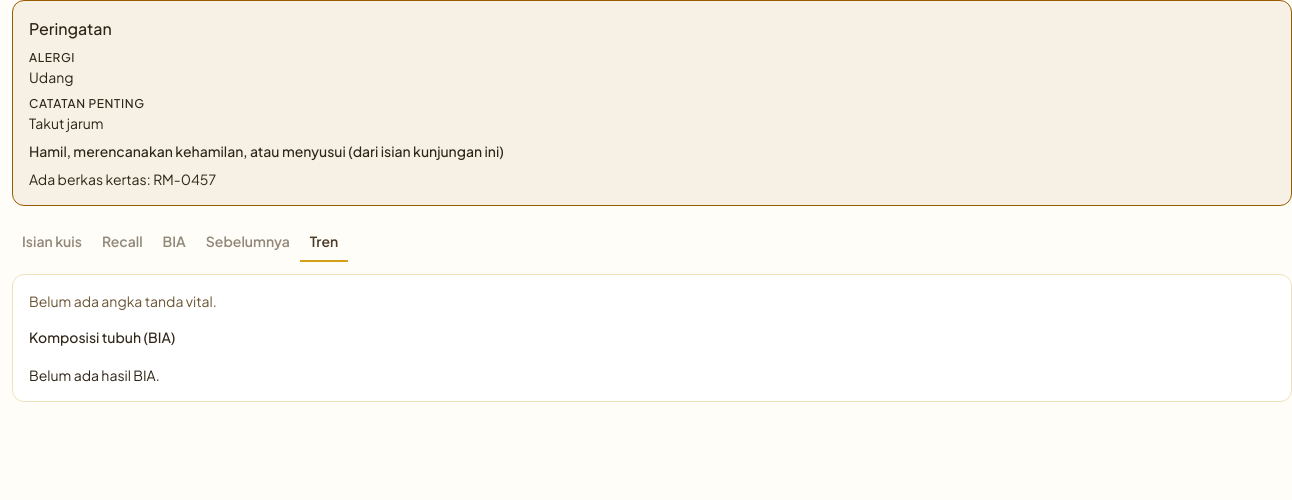
Test: EncounterContextPanel › tab BIA ada di antara Food recall dan Sebelumnya, dan isinya tab BIA
The image size is (1292, 500).
Click the tab "BIA" at (174, 242), box [153,222,196,262]
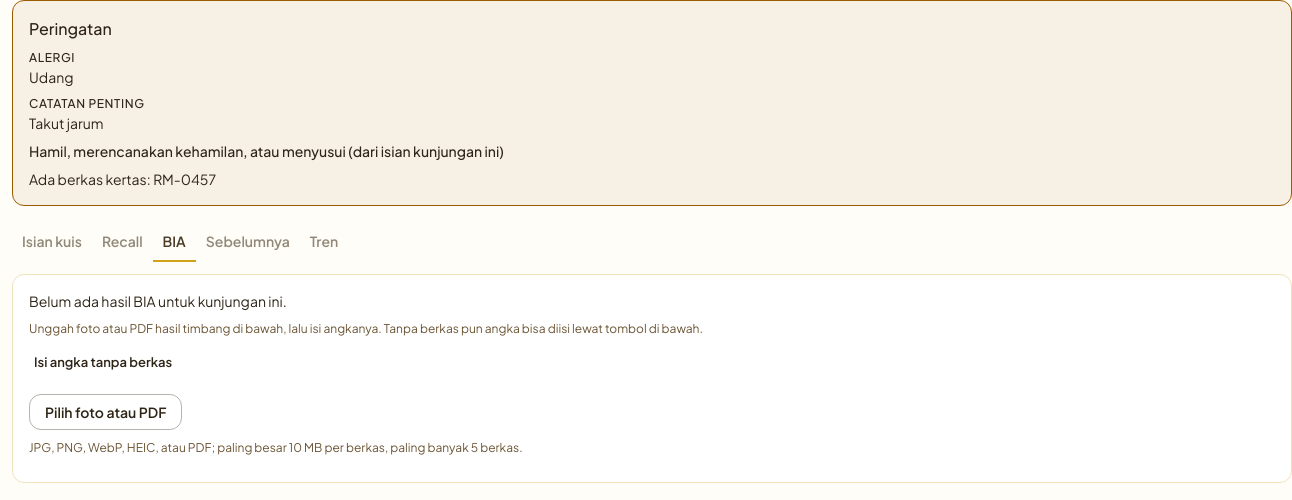
Expected: the panel "BIA" shows "Belum ada hasil BIA untuk kunjungan ini.", [29,292,287,310]
